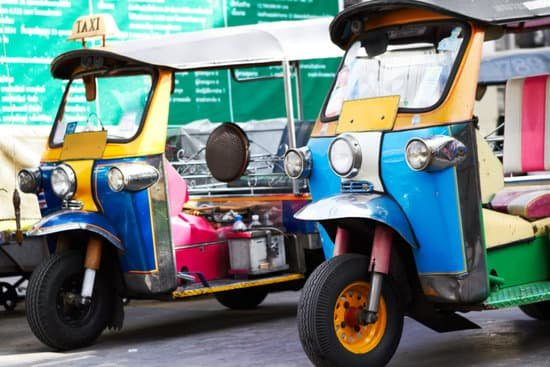threewheel: (19, 13, 340, 354), (284, 1, 550, 367)
